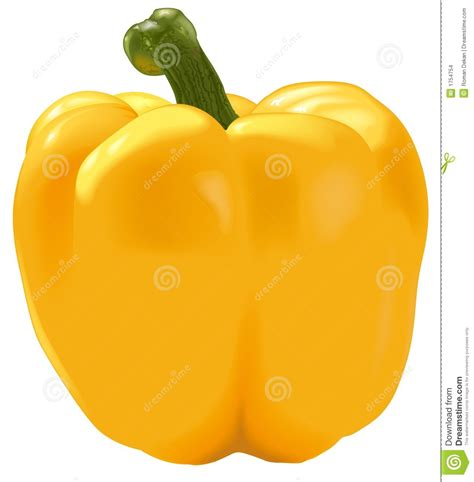???: (12, 7, 429, 465)
